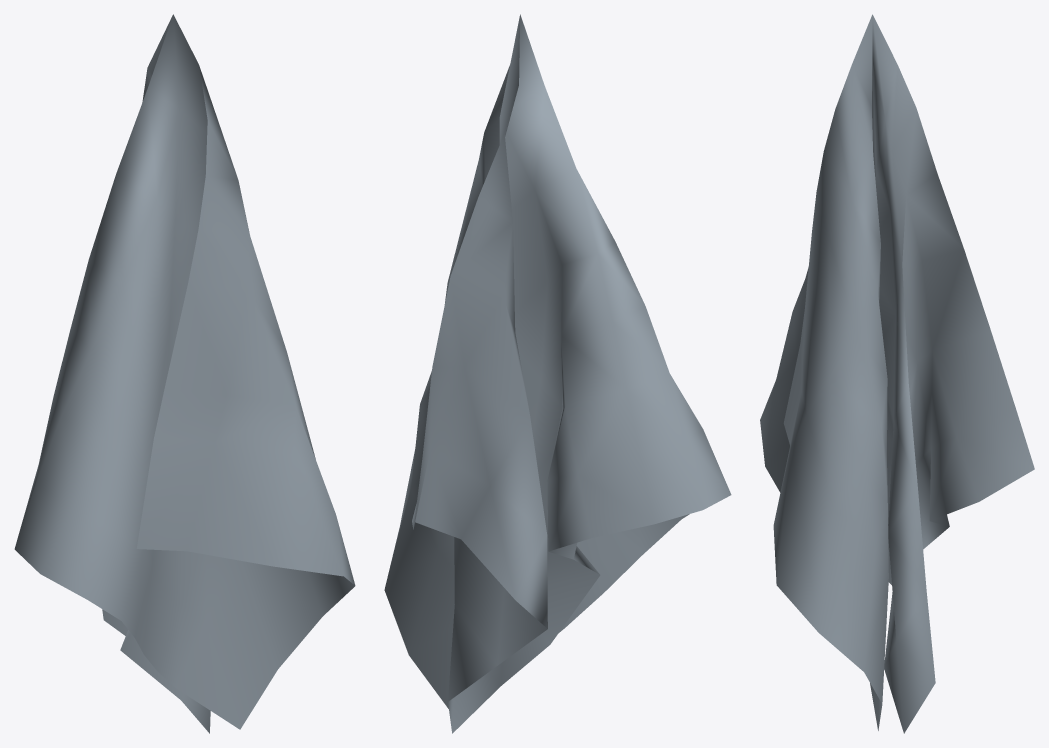
Rendered from Towel01.fbx.
3 views of the same model, side by side, from view 1: azimuth 30°, elevation 25°; view 2: azimuth 150°, elevation 25°; view 3: azimuth 270°, elevation 25° (orthographic). The views are drawn at different scales.
Visible parts, largest first — view 1: Towel01; view 2: Towel01; view 3: Towel01.
Boxes of the visible parts, <box> form: Towel01: <box>14,14,355,733</box>; Towel01: <box>384,14,731,733</box>; Towel01: <box>760,14,1034,733</box>.
Bounding box in the file's own units: 0.3076 × 0.6656 × 0.2384.
